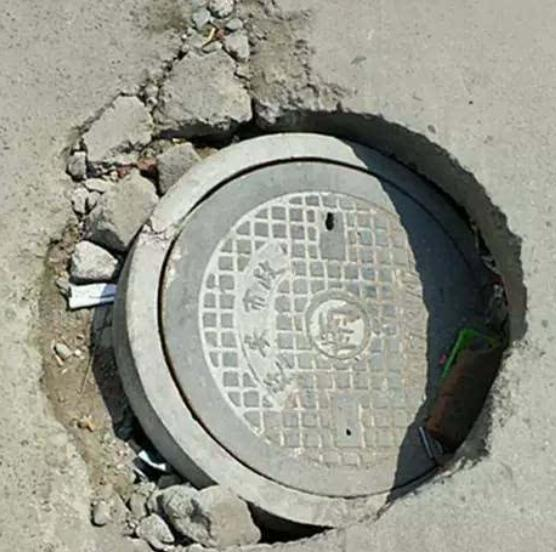wellcover: (70, 97, 538, 544)
